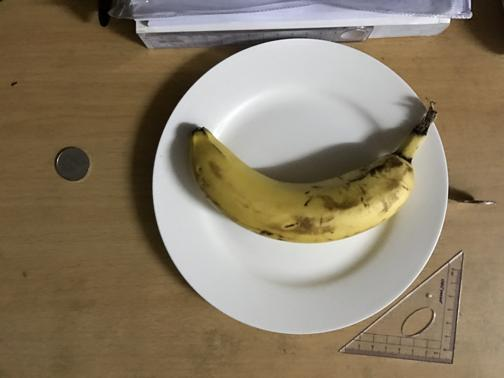banana: (188, 121, 420, 242)
coin: (53, 146, 91, 182)
